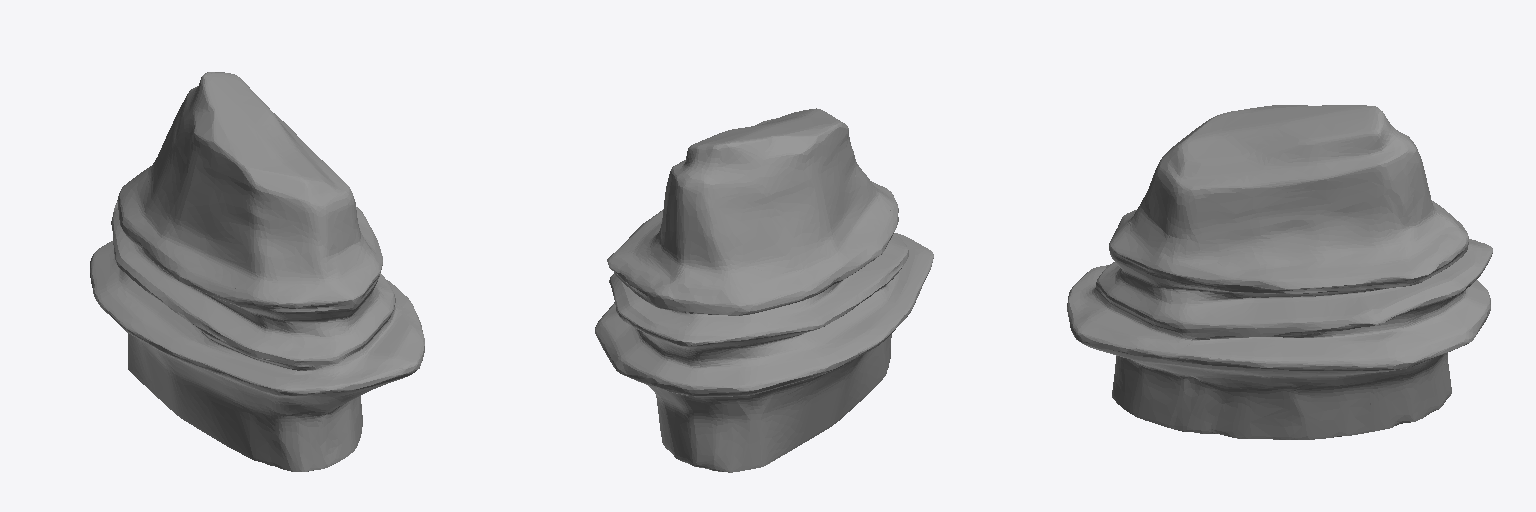
The model's file is sh_cliff_big_03.obj.
3 renders of one model, left to right at view 1: azimuth 30°, elevation 25°; view 2: azimuth 150°, elevation 25°; view 3: azimuth 270°, elevation 25°, orthographic.
Visible parts, largest first — view 1: g Group2511_Group2511; view 2: g Group2511_Group2511; view 3: g Group2511_Group2511.
Part boxes in pixels (x1,y1,x2,y2): g Group2511_Group2511: (90, 72, 424, 471); g Group2511_Group2511: (595, 108, 933, 472); g Group2511_Group2511: (1067, 105, 1492, 439).
Bounding box in the file's own units: 41.54 × 47.83 × 62.56.